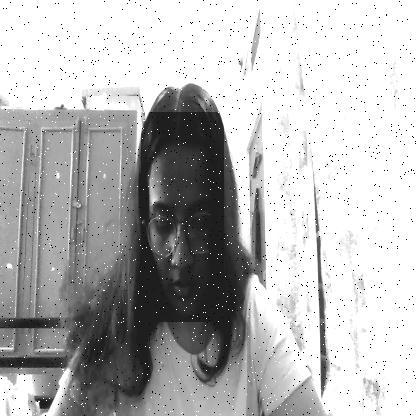Distracted: (141, 112, 224, 322)
